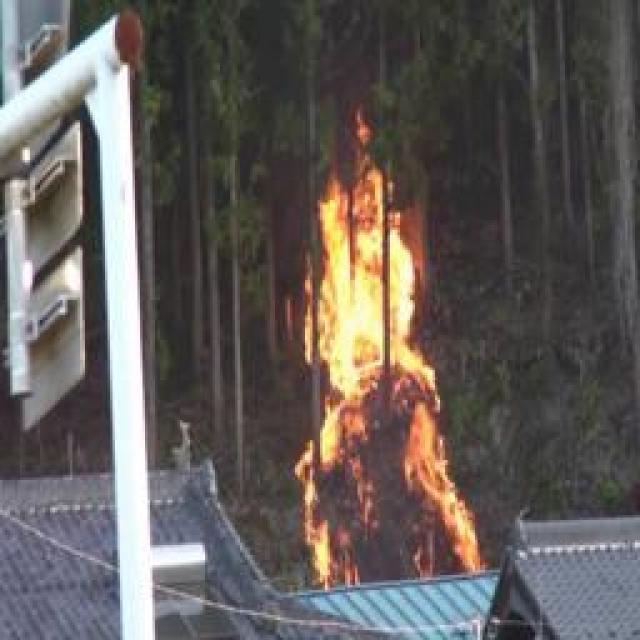Fire: (290, 135, 472, 588)
